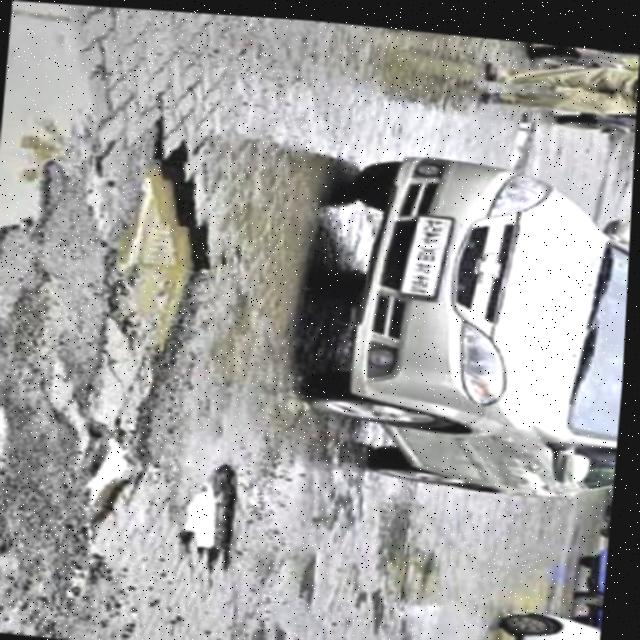Pothole: (67, 114, 231, 533), (0, 0, 105, 325), (177, 455, 253, 571), (0, 403, 17, 528)
